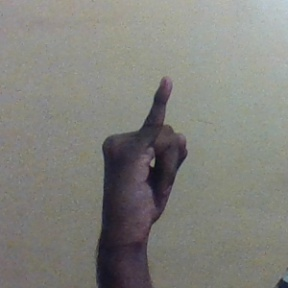I: (101, 77, 195, 225)
